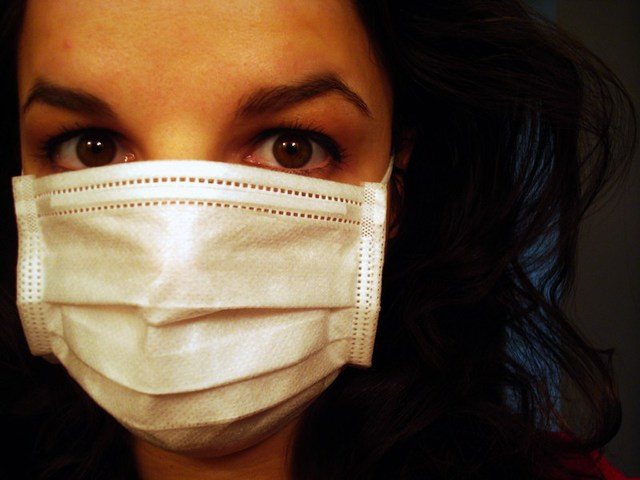mask: (24, 184, 385, 424)
